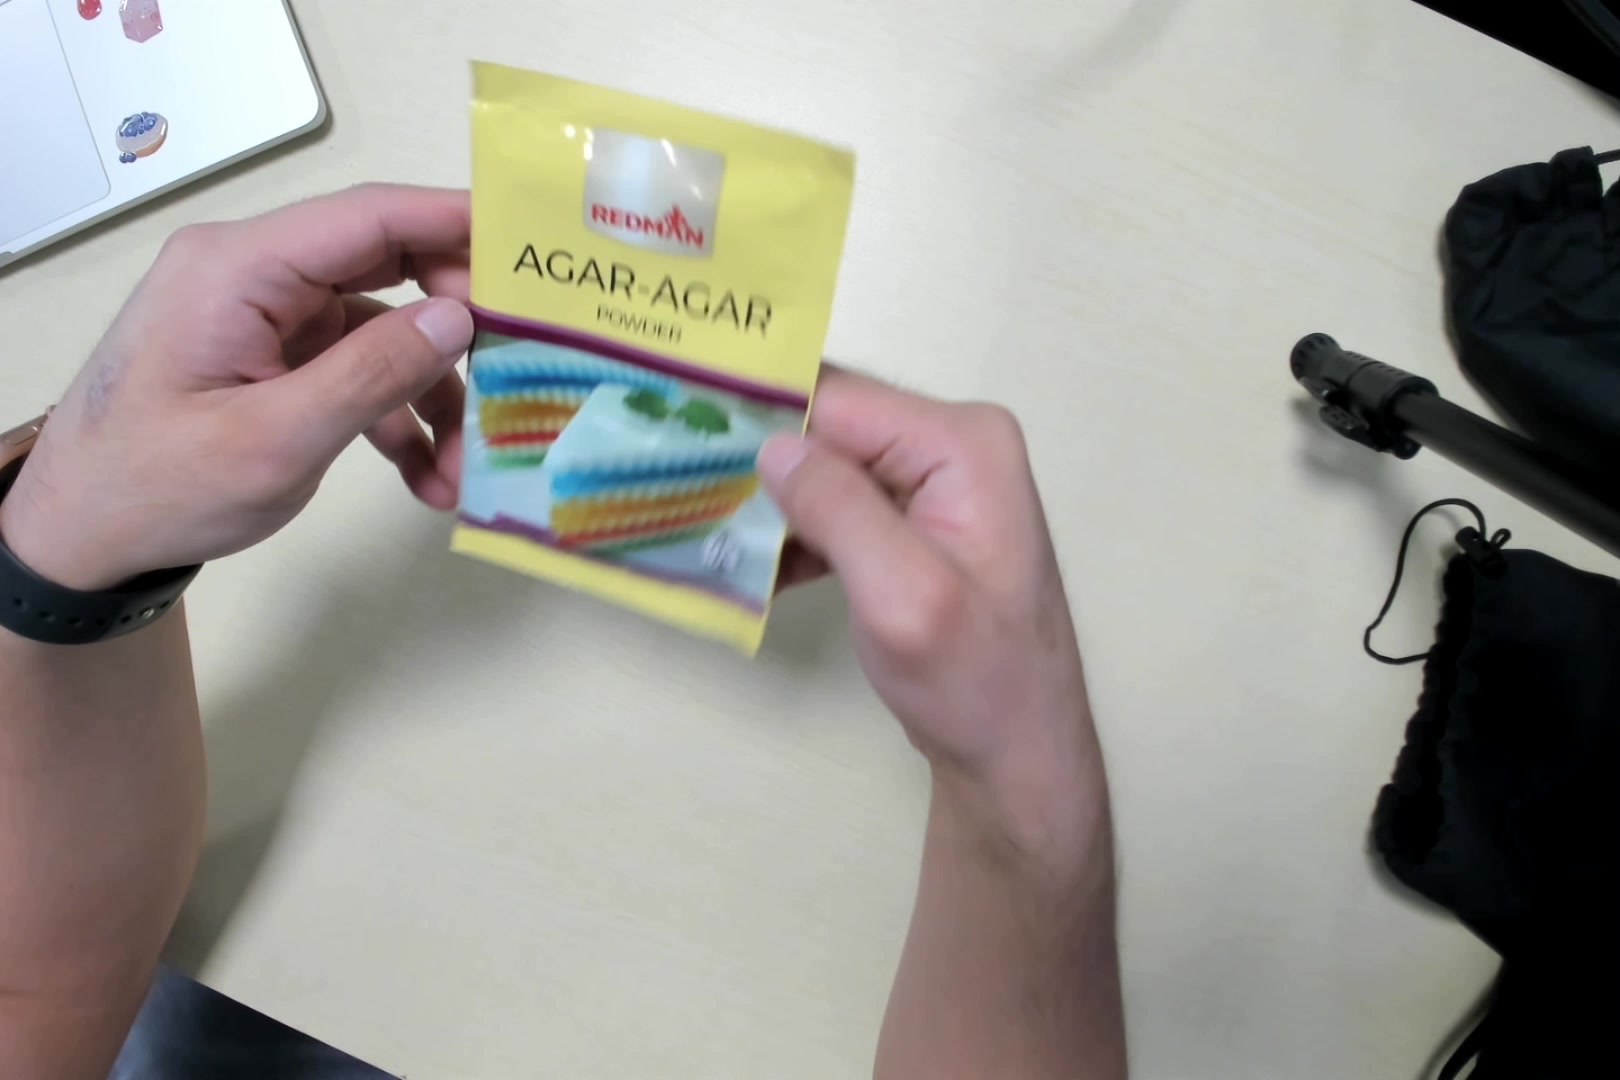OtherBakingNeeds_0-99g_Halal_NonHealthy: (454, 72, 849, 667)
